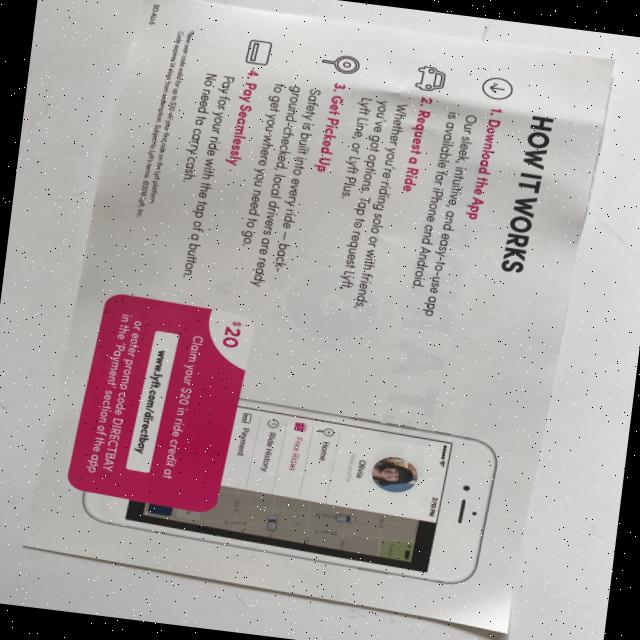paper: (20, 0, 617, 639)
